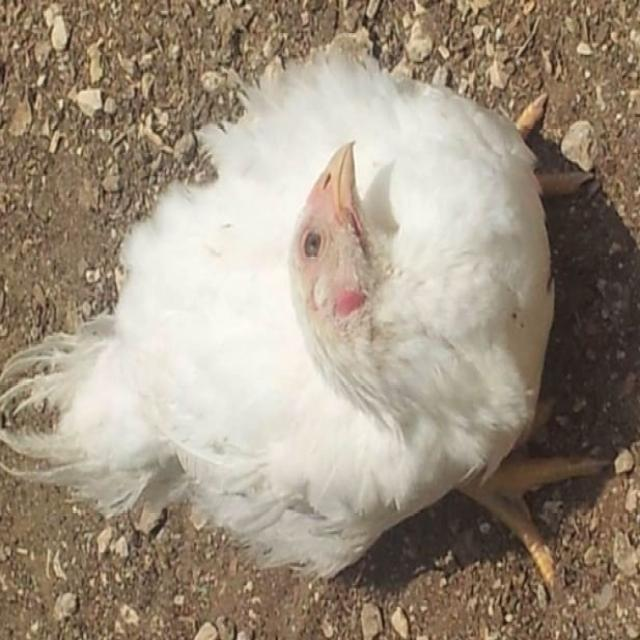newcastle: (32, 18, 598, 578)
